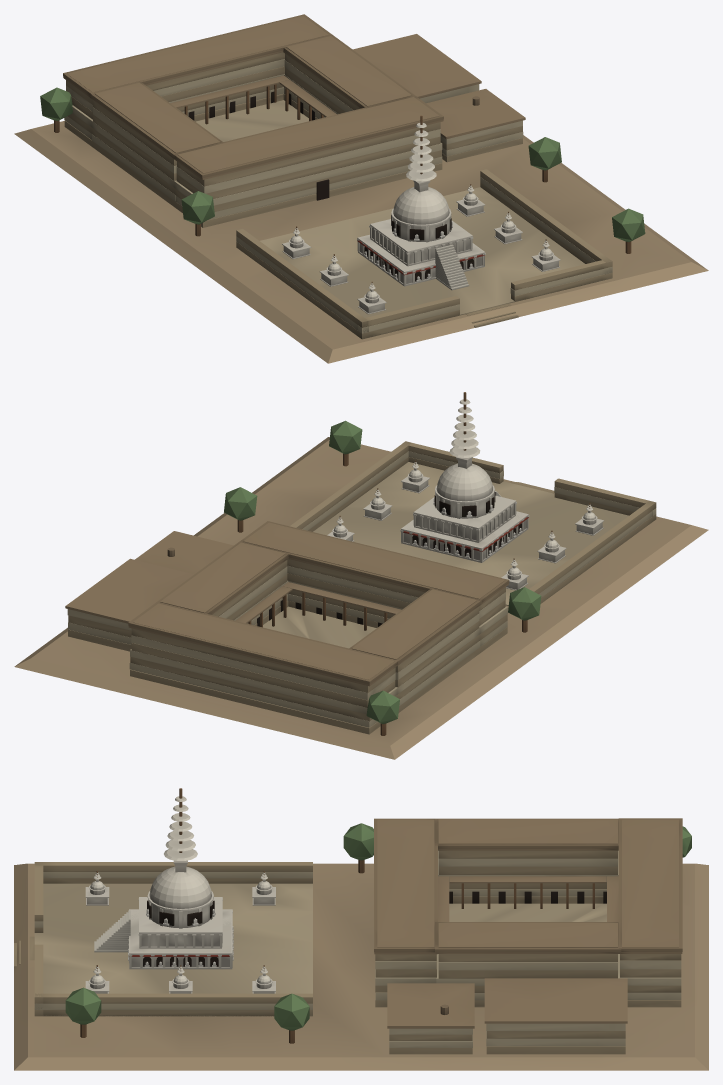
The model's file is mohra-moradu.glb.
3 views of the same model, one above another, from view 1: azimuth 30°, elevation 25°; view 2: azimuth 150°, elevation 25°; view 3: azimuth 270°, elevation 25° (orthographic). The views are drawn at different scales.
Parts seen in each view (by area): view 1: p3_monastery, p0_terrace, p1_main stupa, p2_votive stupas; view 2: p3_monastery, p0_terrace, p1_main stupa, p2_votive stupas; view 3: p0_terrace, p3_monastery, p1_main stupa, p2_votive stupas.
Part boxes in pixels (box(x1,y1,x2,y2)): p3_monastery: box(40, 14, 645, 253); p0_terrace: box(14, 121, 708, 363); p1_main stupa: box(357, 115, 485, 290); p2_votive stupas: box(282, 184, 560, 314); p3_monastery: box(65, 420, 541, 735); p0_terrace: box(14, 437, 708, 759); p1_main stupa: box(400, 392, 529, 562); p2_votive stupas: box(327, 460, 604, 590); p0_terrace: box(14, 862, 708, 1070); p3_monastery: box(65, 818, 691, 1054); p1_main stupa: box(94, 788, 233, 969); p2_votive stupas: box(85, 871, 275, 993).
Bounding box in the file's own units: 70 × 26.63 × 100.
